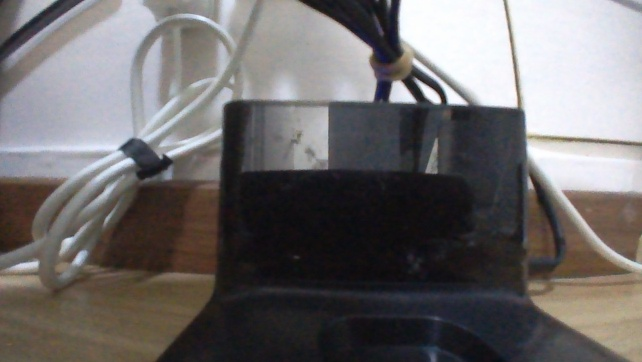wire: (0, 0, 266, 295), (297, 0, 481, 108), (522, 155, 641, 281)
